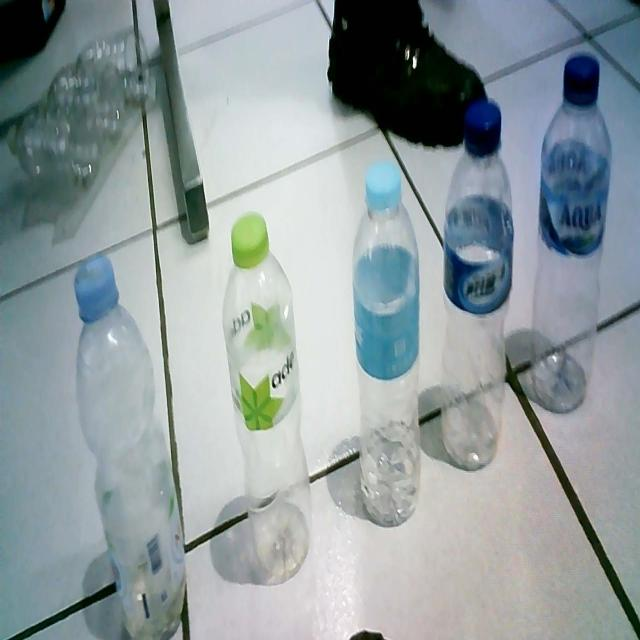botol: (48, 246, 204, 640), (201, 199, 330, 597), (532, 53, 640, 473), (339, 151, 440, 539), (437, 102, 528, 515)
